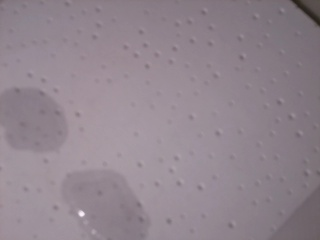Water_detected: (74, 176, 135, 237), (7, 97, 59, 142)
